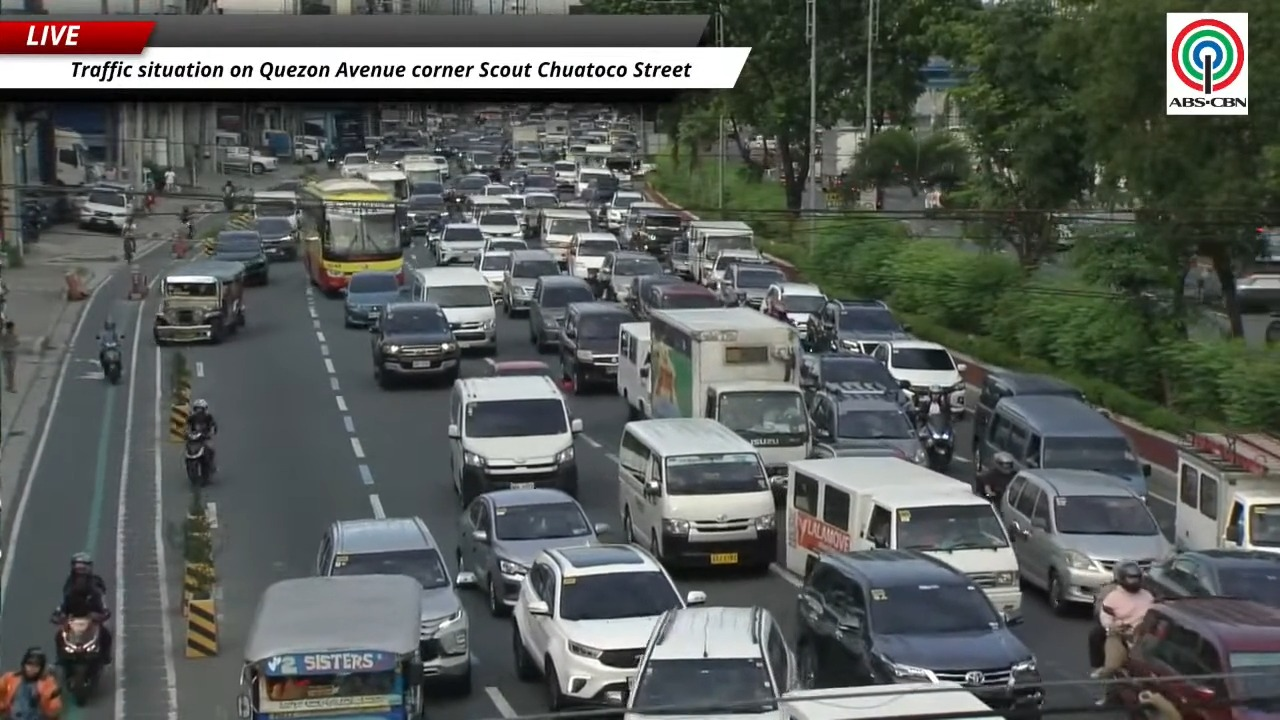bus: (298, 179, 403, 295)
car: (796, 549, 1044, 715), (512, 544, 705, 711), (316, 517, 475, 694), (997, 468, 1173, 613), (1108, 597, 1279, 719), (457, 488, 608, 616), (625, 606, 796, 719), (809, 386, 926, 463), (973, 370, 1086, 446), (1144, 549, 1279, 606), (371, 302, 460, 388), (871, 340, 966, 414), (559, 301, 633, 393), (799, 352, 909, 407), (806, 299, 908, 354), (528, 275, 594, 353), (502, 248, 560, 316), (760, 282, 826, 338), (344, 271, 406, 327), (597, 250, 663, 302), (210, 230, 268, 285), (717, 263, 784, 307), (641, 281, 720, 318), (704, 249, 772, 291), (624, 273, 685, 319), (435, 223, 484, 265), (474, 248, 510, 301), (254, 217, 296, 260), (405, 194, 448, 236), (605, 191, 643, 231), (484, 358, 556, 378), (479, 209, 521, 237), (339, 152, 371, 179), (485, 238, 529, 251), (409, 181, 445, 196), (482, 183, 512, 196)
motorcycle: (51, 612, 105, 705), (915, 386, 954, 471), (184, 429, 212, 487), (101, 343, 123, 385), (427, 216, 444, 250), (223, 189, 234, 211), (183, 219, 194, 240), (326, 153, 337, 169)
truck: (780, 457, 1021, 619), (647, 307, 810, 476), (1174, 435, 1279, 552), (774, 681, 1000, 719), (15, 120, 95, 187), (685, 219, 755, 284), (821, 126, 864, 179), (218, 146, 278, 174), (511, 125, 539, 147)
